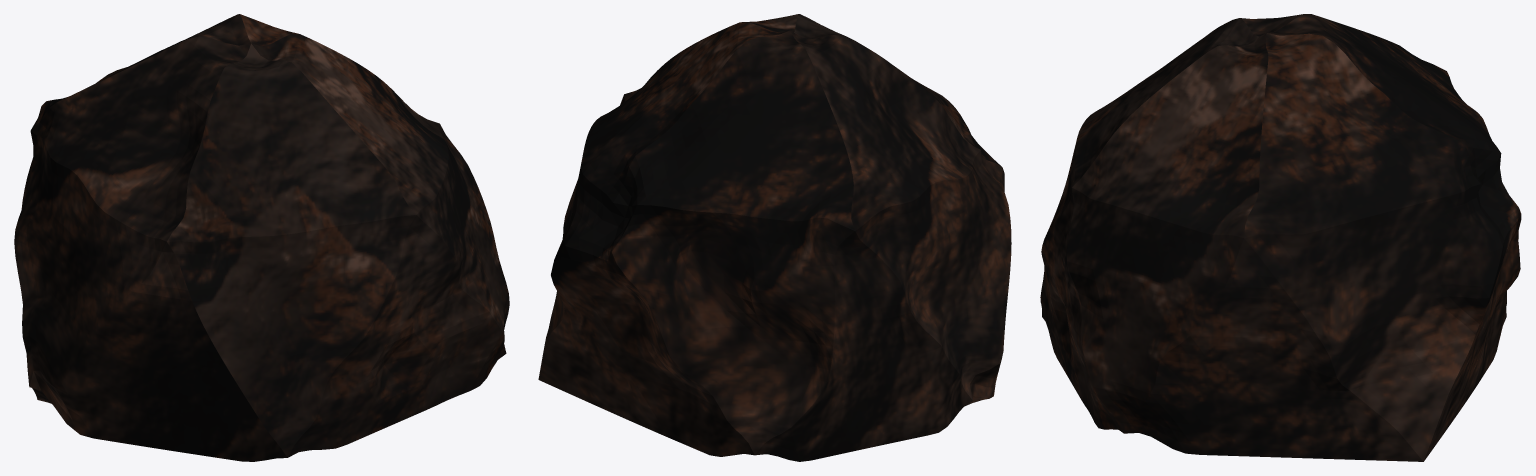
Rendered from rock5.fbx.
3 views of the same model, side by side, from view 1: azimuth 30°, elevation 25°; view 2: azimuth 150°, elevation 25°; view 3: azimuth 270°, elevation 25° (orthographic).
Parts seen in each view (by area): view 1: Icosphere; view 2: Icosphere; view 3: Icosphere.
Part boxes in pixels (x1,y1,x2,y2): Icosphere: [14, 14, 509, 461]; Icosphere: [538, 14, 1011, 461]; Icosphere: [1040, 14, 1521, 461].
Size of the model in its own units: 167 by 141 by 169.
